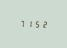five: (32, 19, 38, 28)
one: (25, 19, 31, 27)
seven: (18, 19, 24, 27)
two: (39, 20, 45, 28)
